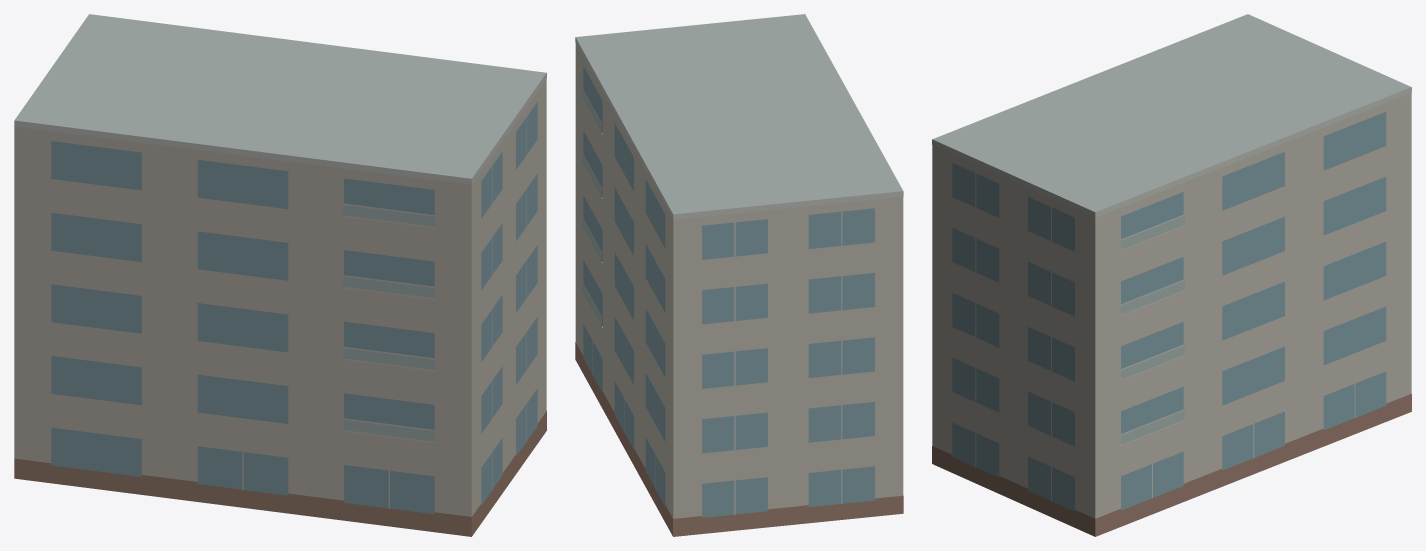
Rendered from survey-upis-32933620.glb.
3 views of the same model, side by side, from view 1: azimuth 30°, elevation 25°; view 2: azimuth 150°, elevation 25°; view 3: azimuth 270°, elevation 25° (orthographic). The views are drawn at different scales.
Visible parts, largest first — view 1: survey-upis-32933620.tmp; view 2: survey-upis-32933620.tmp; view 3: survey-upis-32933620.tmp.
Part boxes in pixels (x1,y1,x2,y2): survey-upis-32933620.tmp: [14, 14, 546, 536]; survey-upis-32933620.tmp: [575, 14, 903, 536]; survey-upis-32933620.tmp: [932, 14, 1411, 536].
Size of the model in its own units: 19 by 14.5 by 19.42.
